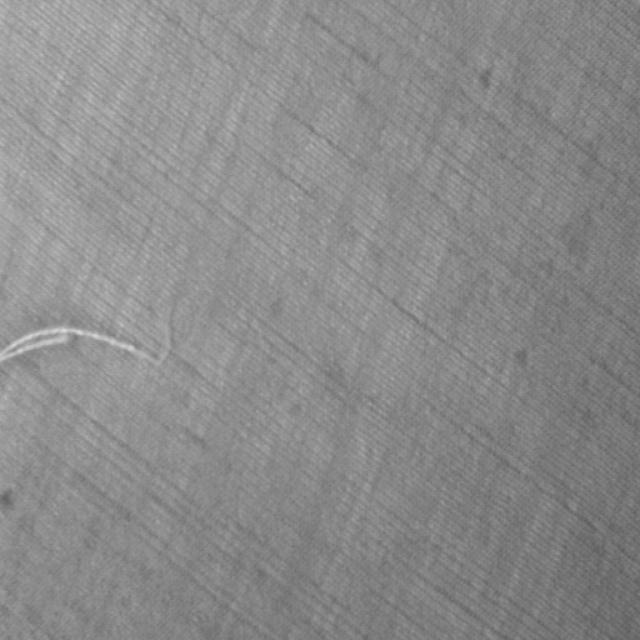objects: (0, 291, 177, 385)
